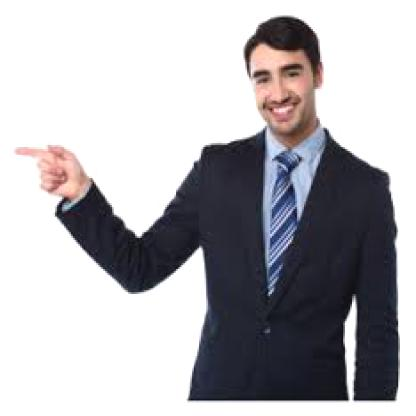Right: (10, 127, 95, 213)
